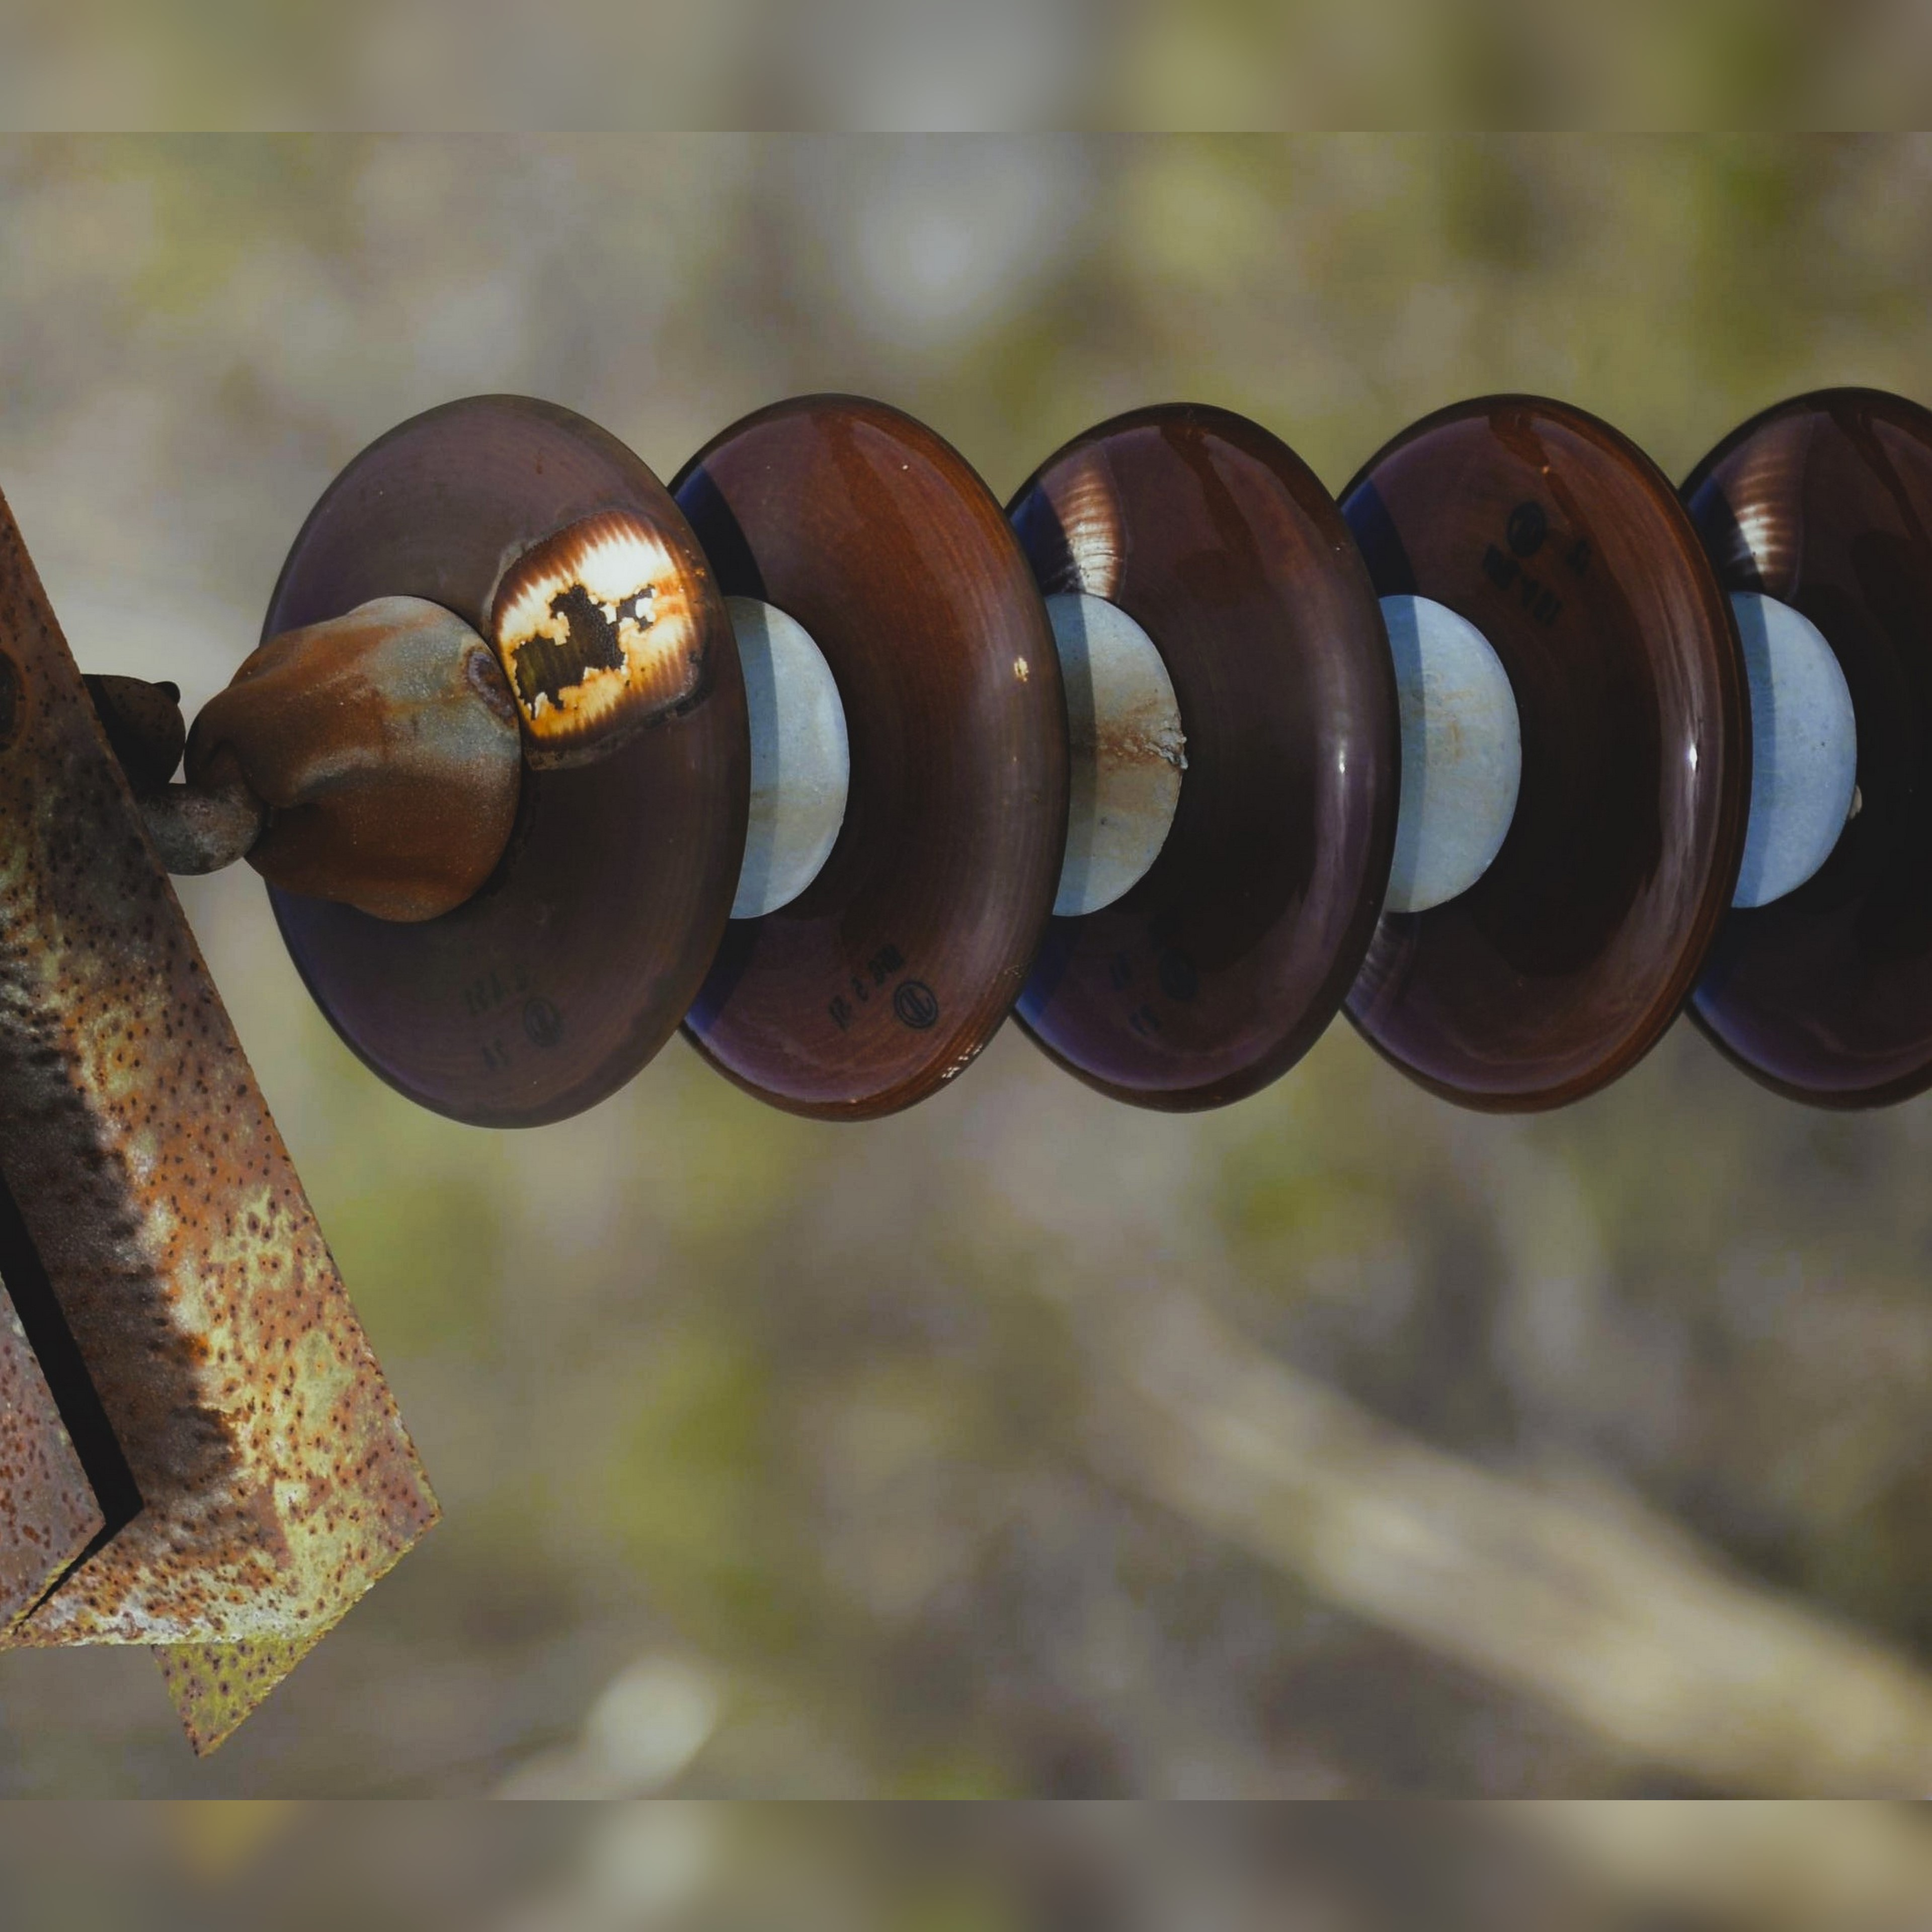Insulator flashover: (239, 382, 771, 1145)
